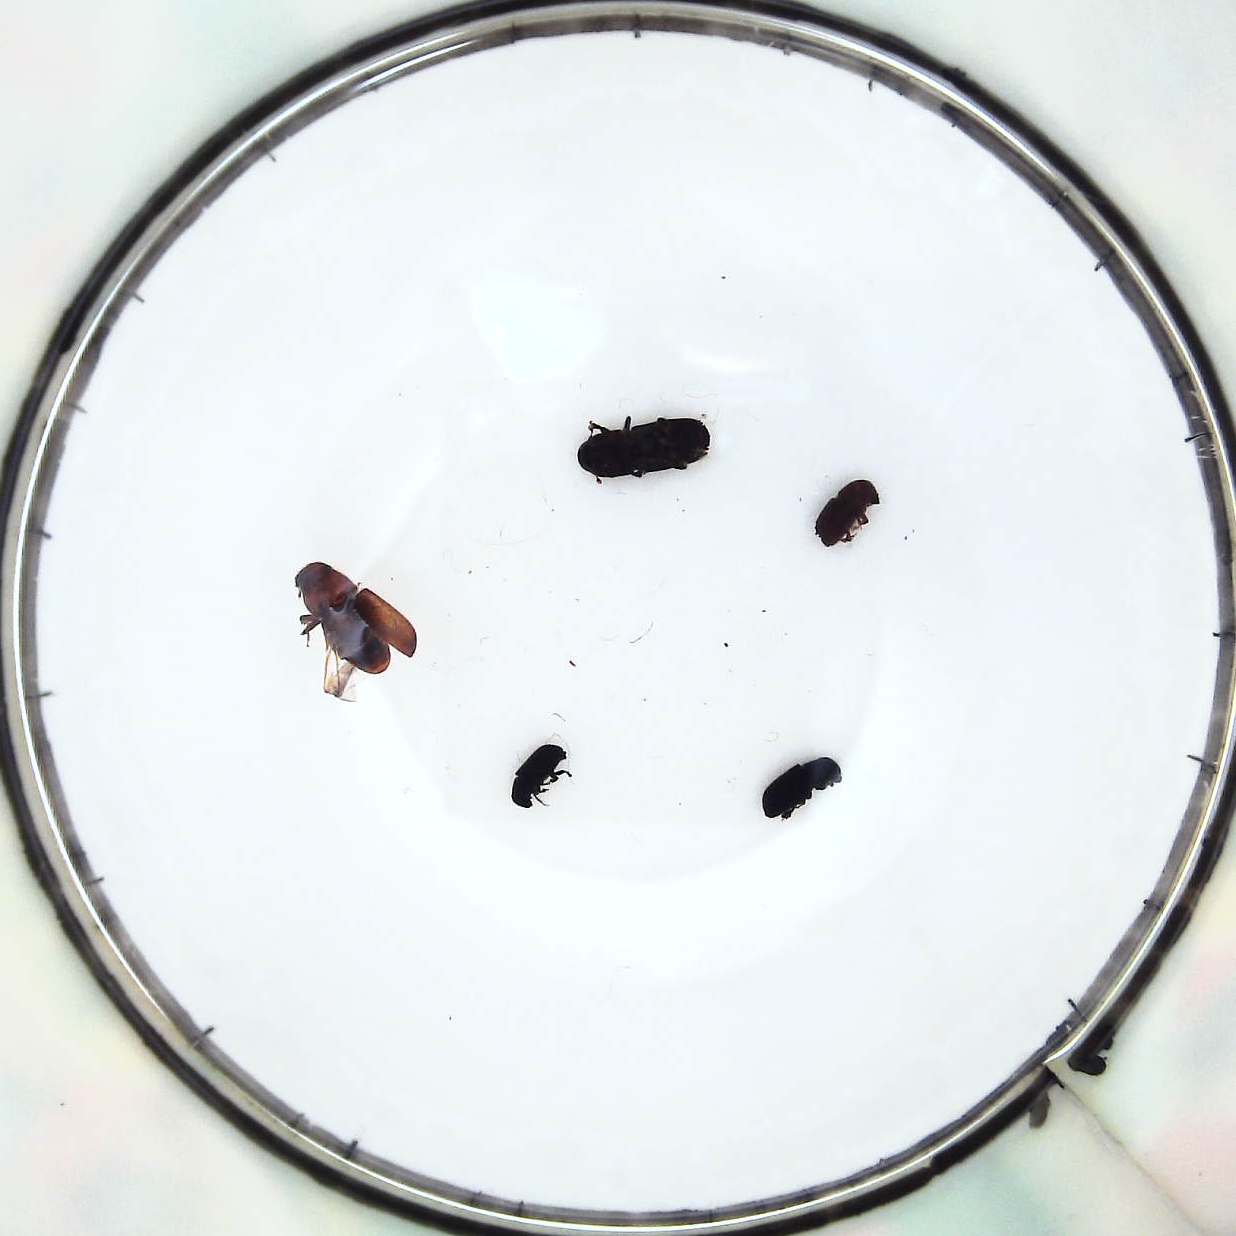Boerner: (577, 409, 709, 477)
Leconte: (297, 558, 426, 697)
Linnaeus: (816, 480, 889, 550)
armandi: (764, 746, 840, 827)
coleoptera: (509, 746, 563, 812)
